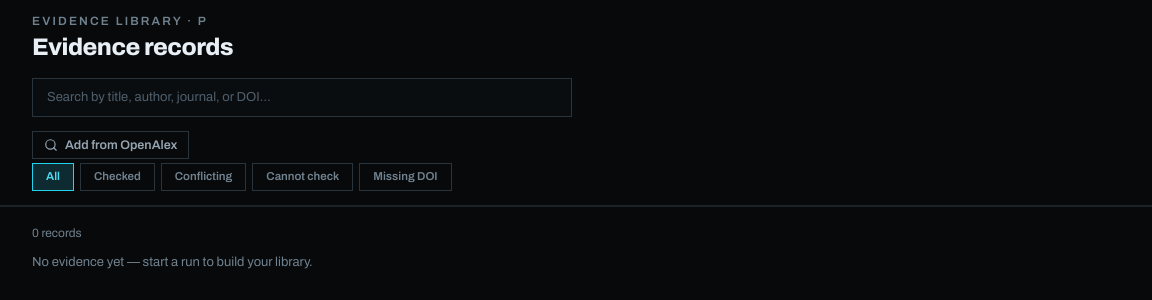
Test: EvidenceLibrary external fetch — gated + collapsed (M13) › real backend: a compact 'Add from OpenAlex' button is present (collapsed)
Check: the search field named "Search evidence records" is shown, box x1=32 y1=78 x2=572 y2=117
Check: the search field labelled "Search external sources" is not shown
# Expands on demand to reveal the input.
Click the button "Add from OpenAlex".
click(111, 145)  # box x1=32 y1=131 x2=189 y2=159
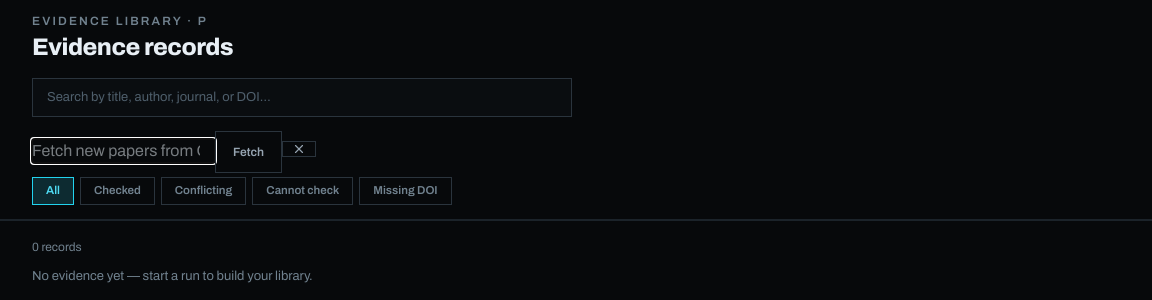
Check: the search field named "Search external sources" is shown, box x1=32 y1=139 x2=215 y2=163
